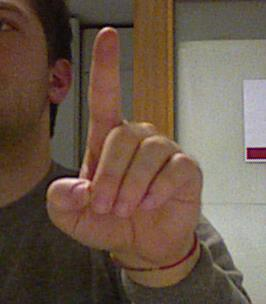up: (43, 20, 207, 265)
